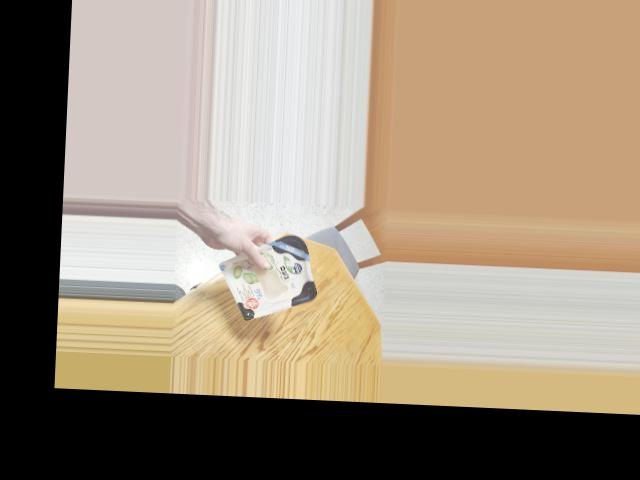cheese: (233, 236, 323, 320)
